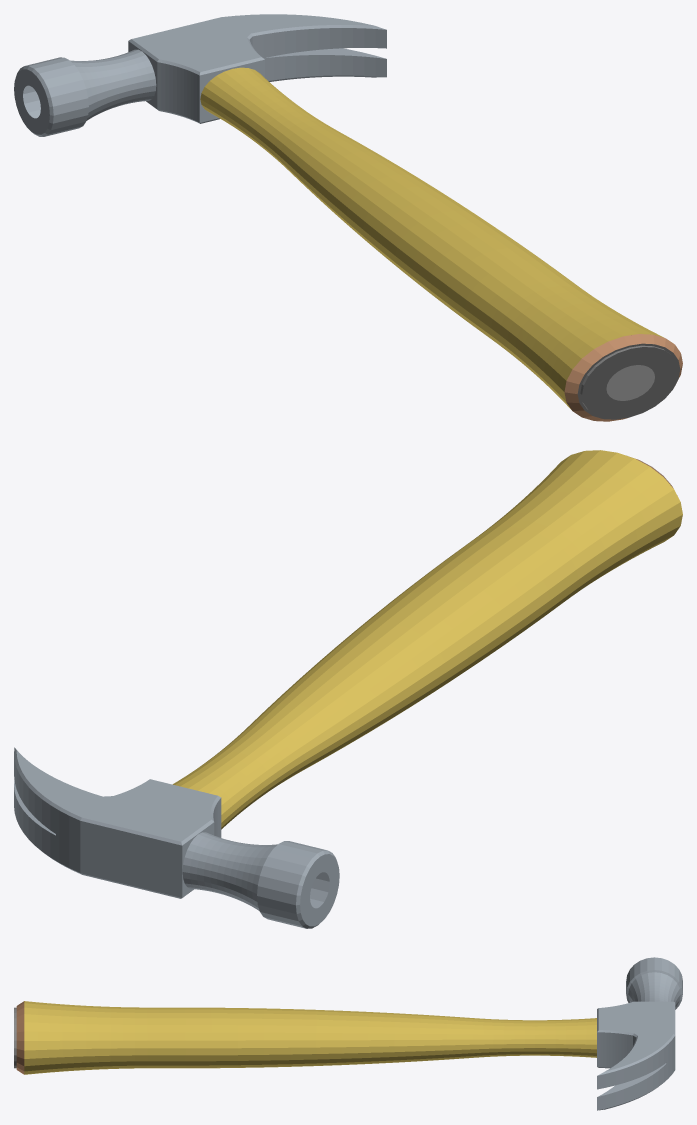
Rendered from hammer.dae.
The picture shows the model from 3 angles, top to bottom: view 1: azimuth 30°, elevation 25°; view 2: azimuth 150°, elevation 25°; view 3: azimuth 270°, elevation 25°; orthographic projection. The views are drawn at different scales.
Parts seen in each view (by area): view 1: skpC7C7_008; view 2: skpC7C7_008; view 3: skpC7C7_008.
Part boxes in pixels (box(x1,y1,x2,y2)): skpC7C7_008: box(14, 14, 682, 421); skpC7C7_008: box(14, 450, 682, 928); skpC7C7_008: box(14, 957, 682, 1110).
Size of the model in its own units: 5.26 by 13.18 by 1.32.
